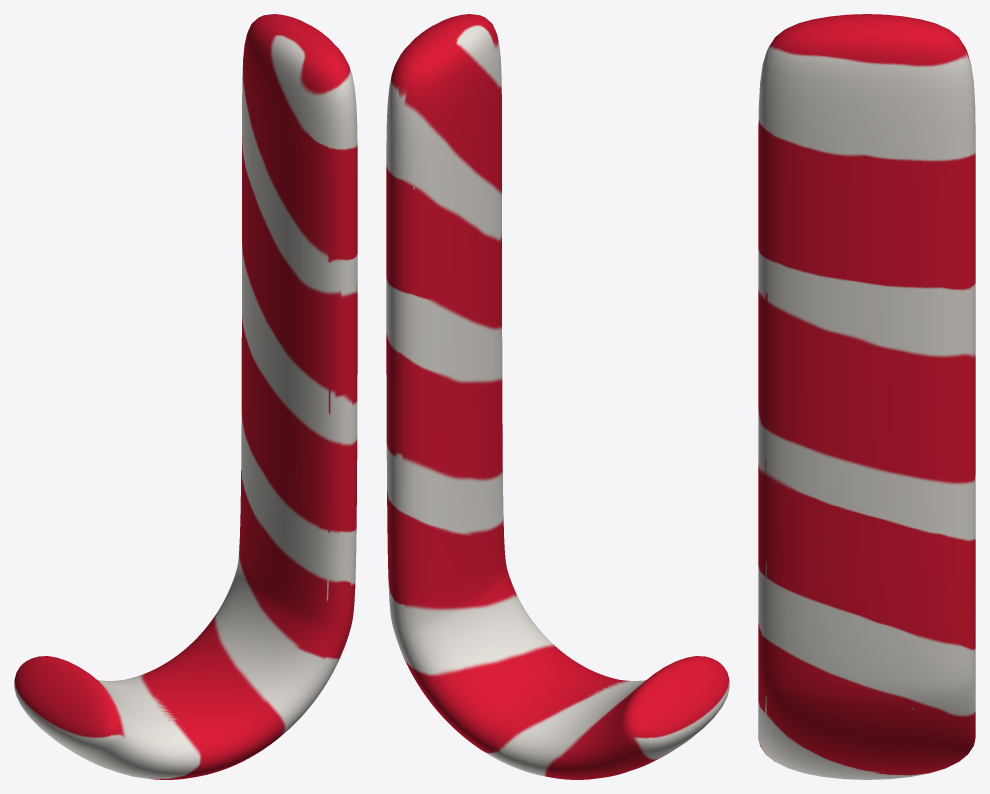
The model's file is Lollypop_slide.fbx.
3 renders of one model, left to right at view 1: azimuth 30°, elevation 25°; view 2: azimuth 150°, elevation 25°; view 3: azimuth 270°, elevation 25°, orthographic. The views are drawn at different scales.
Visible parts, largest first — view 1: Cube; view 2: Cube; view 3: Cube.
Part boxes in pixels (x1,y1,x2,y2): Cube: (14,14,357,779); Cube: (386,14,729,779); Cube: (758,14,975,779).
Size of the model in its own units: 832 by 1908 by 461.
